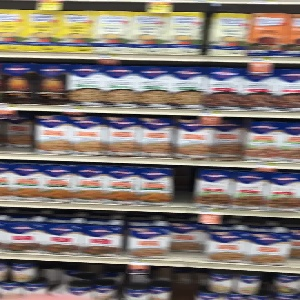void: (172, 168, 195, 209)
